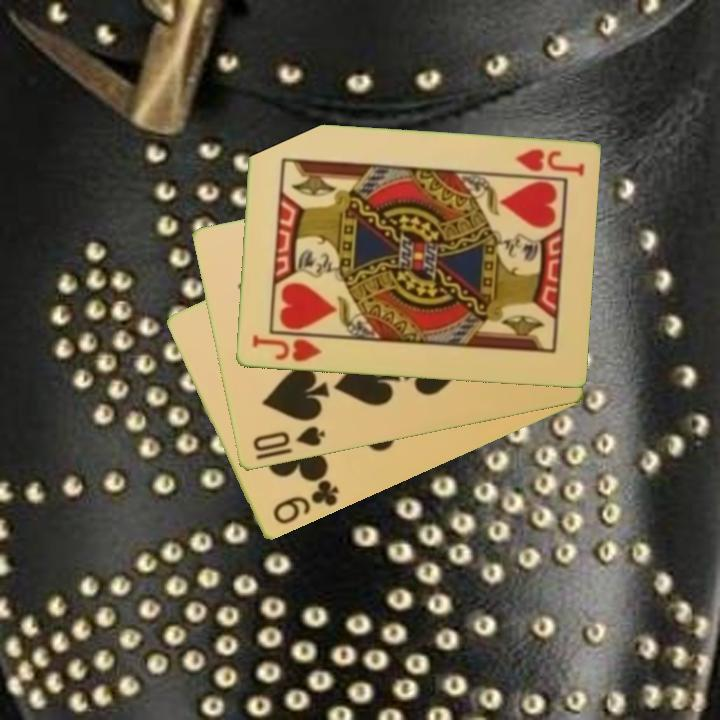10s: (249, 423, 328, 455)
9c: (269, 476, 342, 528)
Jh: (248, 331, 330, 365), (511, 146, 587, 179)
